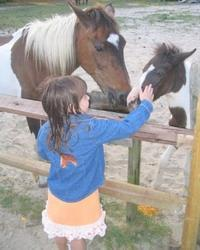person: (37, 74, 154, 249)
